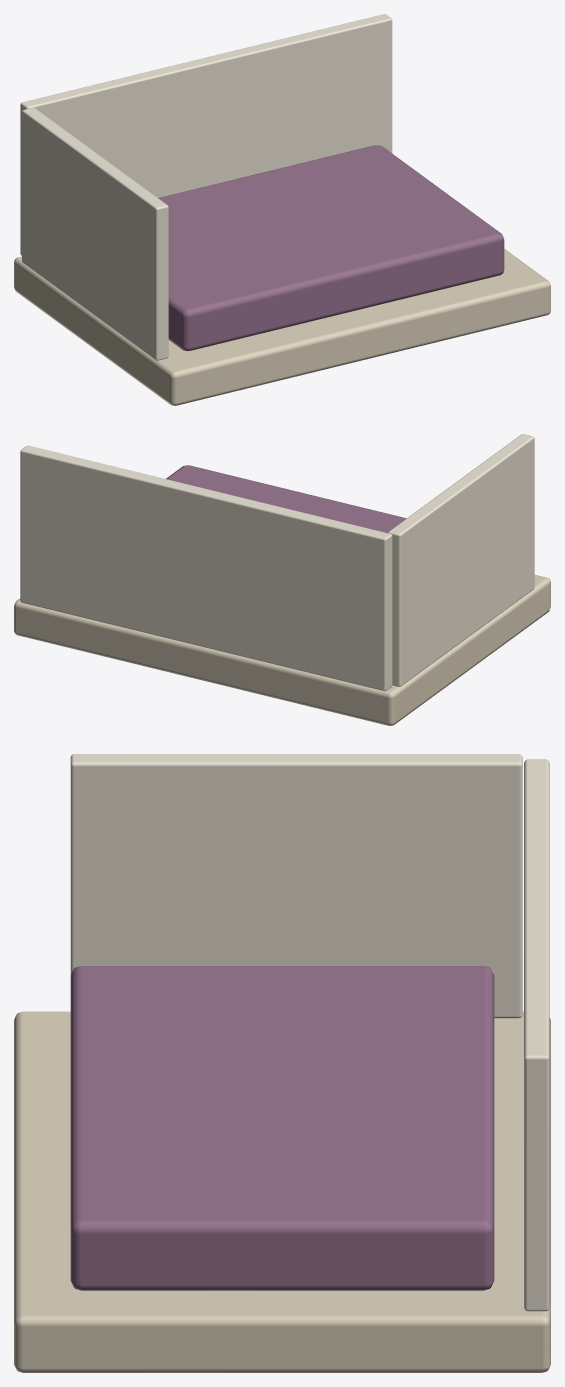
Rendered from museum-conservation-and-art-restoration-museum-conserv-76f2e77d__31894.glb.
3 views of the same model, one above another, from view 1: azimuth 30°, elevation 25°; view 2: azimuth 150°, elevation 25°; view 3: azimuth 270°, elevation 25° (orthographic). The views are drawn at different scales.
Parts seen in each view (by area): view 1: museum-conservation-and-art-restoration-gilding-cushion-stat (×3); view 2: museum-conservation-and-art-restoration-gilding-cushion-stat (×3); view 3: museum-conservation-and-art-restoration-gilding-cushion-stat (×3).
Boxes of the visible parts, left/top/right/bottom form: museum-conservation-and-art-restoration-gilding-cushion-stat (×3): left=14, top=14, right=550, bottom=405; museum-conservation-and-art-restoration-gilding-cushion-stat (×3): left=14, top=434, right=550, bottom=725; museum-conservation-and-art-restoration-gilding-cushion-stat (×3): left=14, top=754, right=550, bottom=1372.
Bounding box in the file's own units: 0.52 × 0.245 × 0.38.
